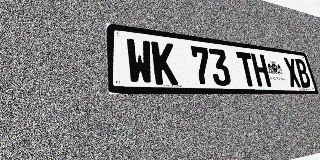3: (208, 48, 232, 86)
7: (189, 46, 214, 86)
B: (294, 59, 312, 88)
H: (251, 53, 271, 87)
K: (151, 41, 178, 85)
T: (236, 51, 258, 87)
W: (125, 38, 154, 84)
X: (283, 57, 302, 87)
